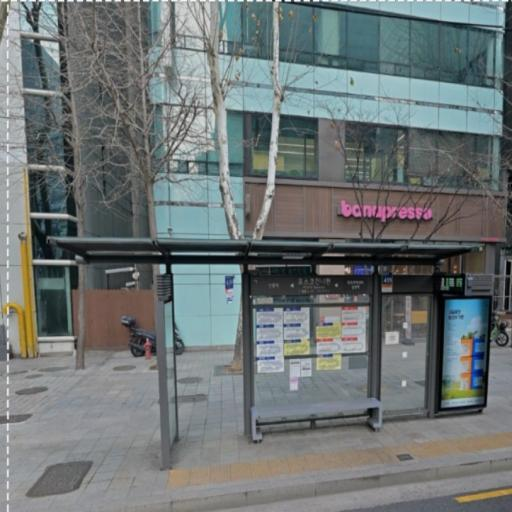bicycle: (49, 238, 493, 468)
